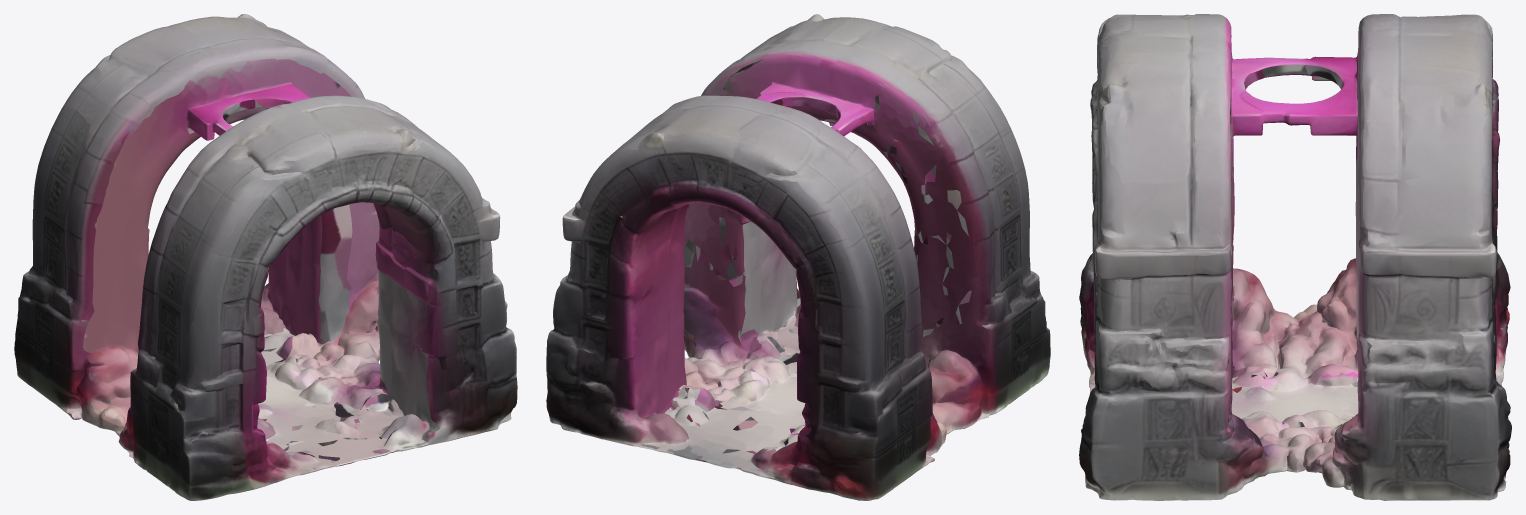
The model's file is lower-root-arch-generated-2026-04-26T02-38-26-370Z.high.glb.
3 views of the same model, side by side, from view 1: azimuth 30°, elevation 25°; view 2: azimuth 150°, elevation 25°; view 3: azimuth 270°, elevation 25° (orthographic). The views are drawn at different scales.
Visible parts, largest first — view 1: temp_mesh.ply; view 2: temp_mesh.ply; view 3: temp_mesh.ply.
Boxes of the visible parts, x1=… form: temp_mesh.ply: x1=14, y1=14, x2=517, y2=500; temp_mesh.ply: x1=546, y1=14, x2=1050, y2=500; temp_mesh.ply: x1=1079, y1=14, x2=1511, y2=500.
Bounding box in the file's own units: 1.98 × 1.86 × 1.95.
1 material, 1 textured.
